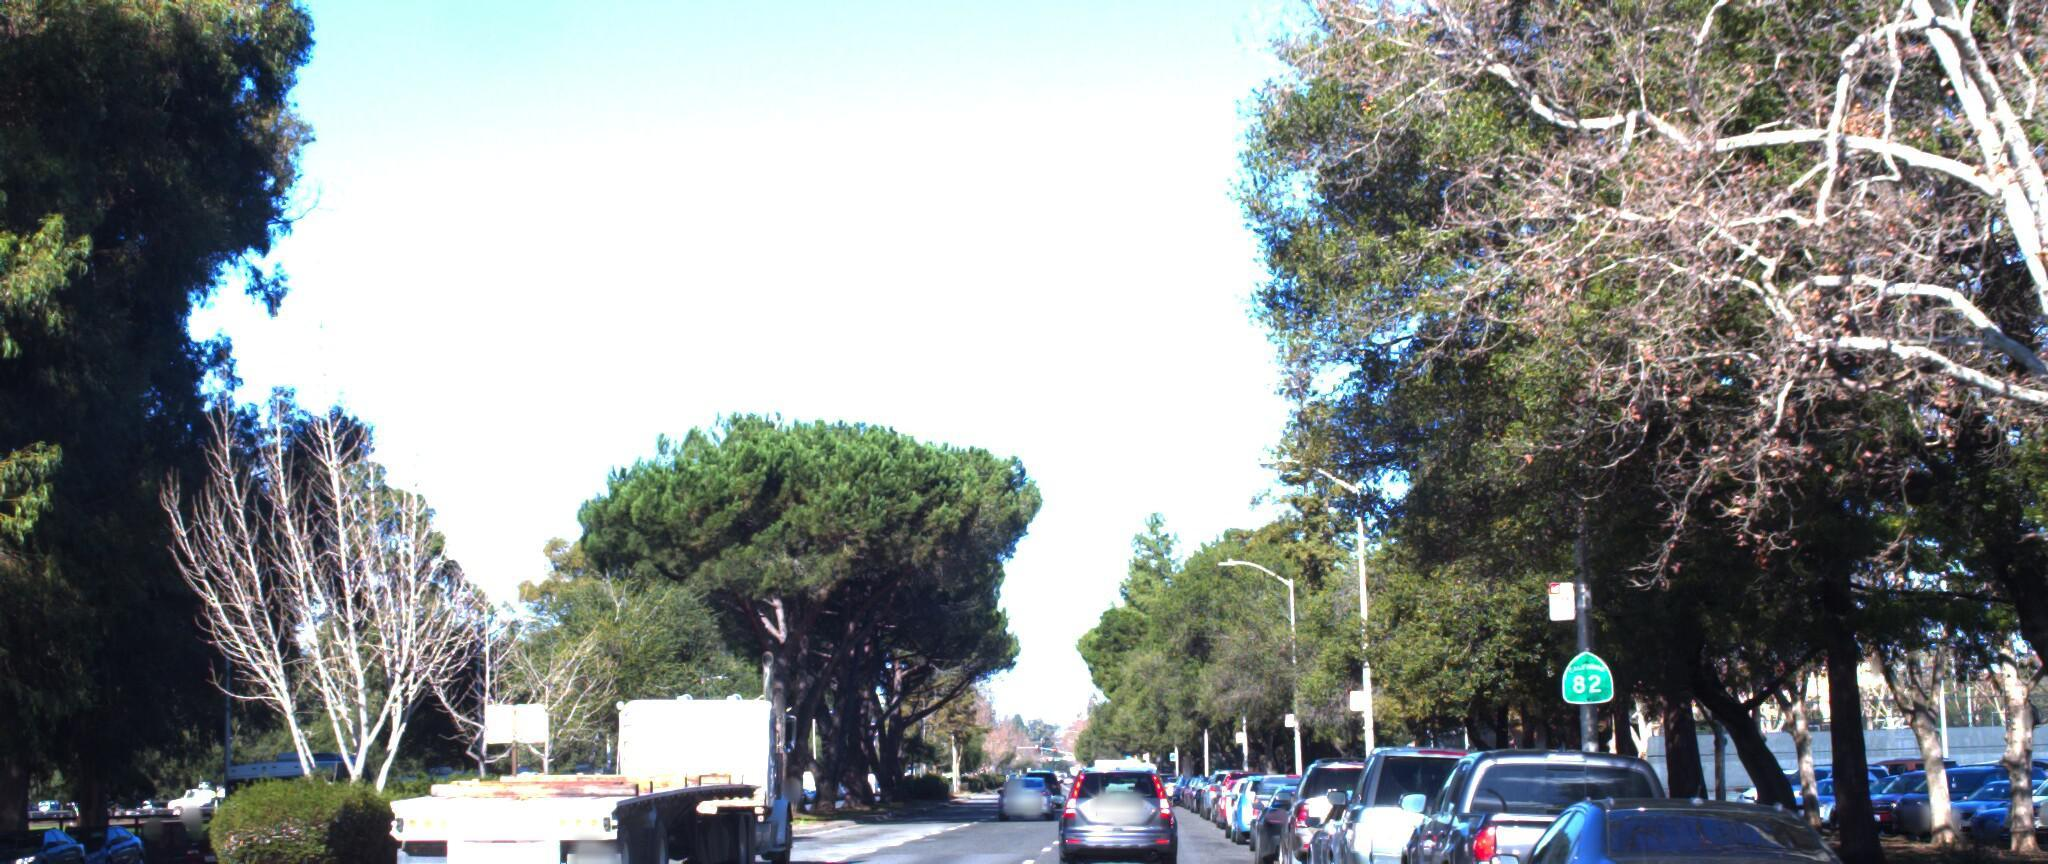car: (1381, 724, 1728, 864), (1442, 771, 1917, 864), (1324, 720, 1539, 864), (1267, 737, 1430, 864), (1044, 748, 1182, 864), (0, 817, 98, 864), (0, 786, 39, 864)
truck: (360, 594, 824, 864)
